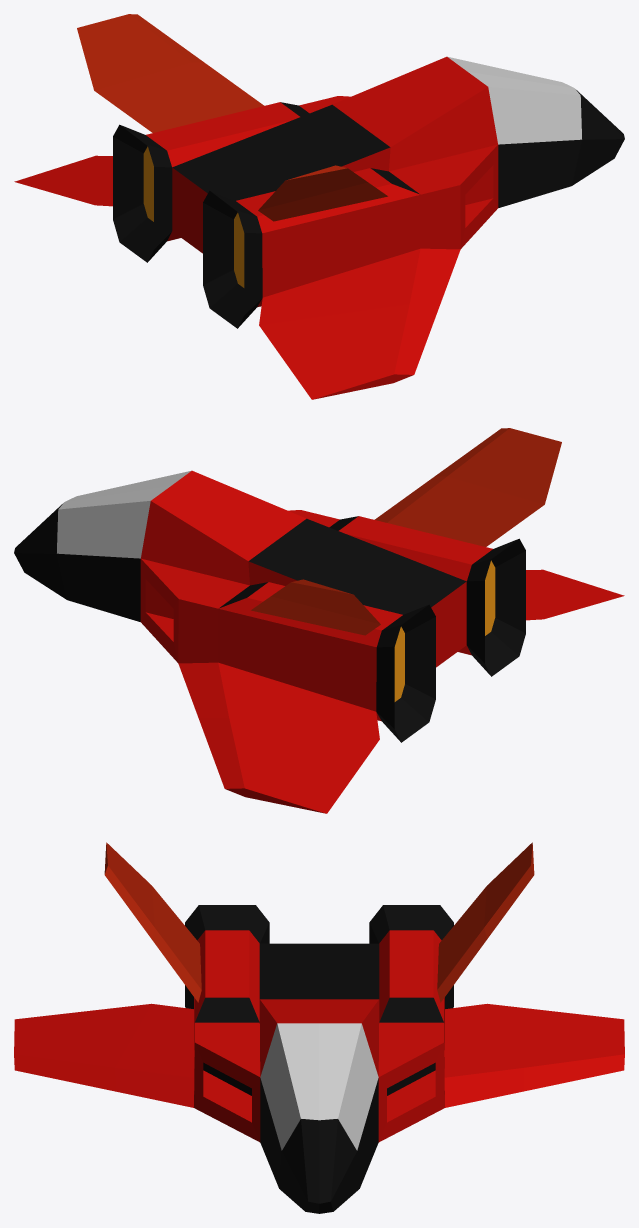
Rendered from spaceship.obj.
3 views of the same model, one above another, from view 1: azimuth 30°, elevation 25°; view 2: azimuth 150°, elevation 25°; view 3: azimuth 270°, elevation 25° (orthographic). The views are drawn at different scales.
Parts seen in each view (by area): view 1: Cube; view 2: Cube; view 3: Cube.
Boxes of the visible parts, bbox=[...] form: Cube: bbox=[14, 14, 624, 399]; Cube: bbox=[14, 428, 624, 813]; Cube: bbox=[14, 842, 624, 1213].
Size of the model in its own units: 9.59 by 3.73 by 10.76.
